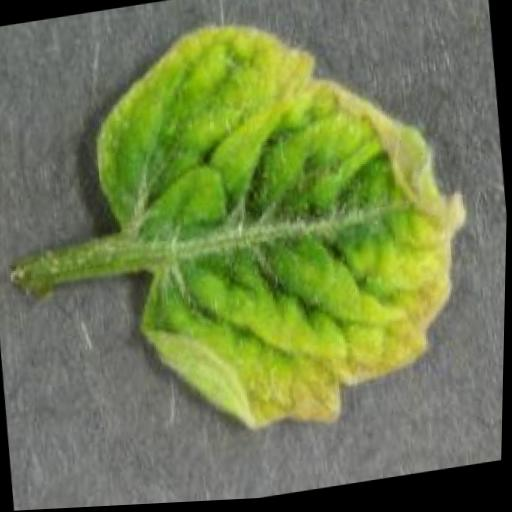Yellow Leaf Curl Virus: (78, 0, 493, 460)
